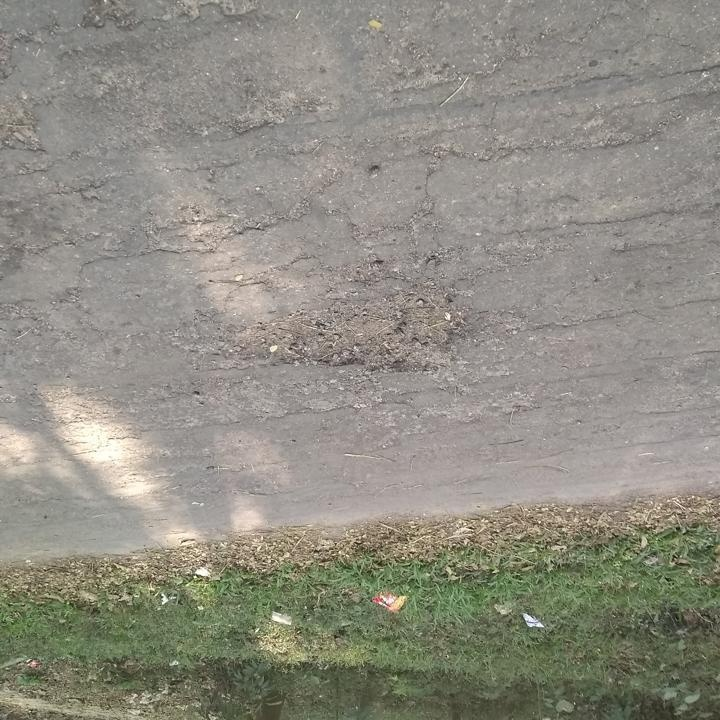pothole: (227, 280, 478, 375)
